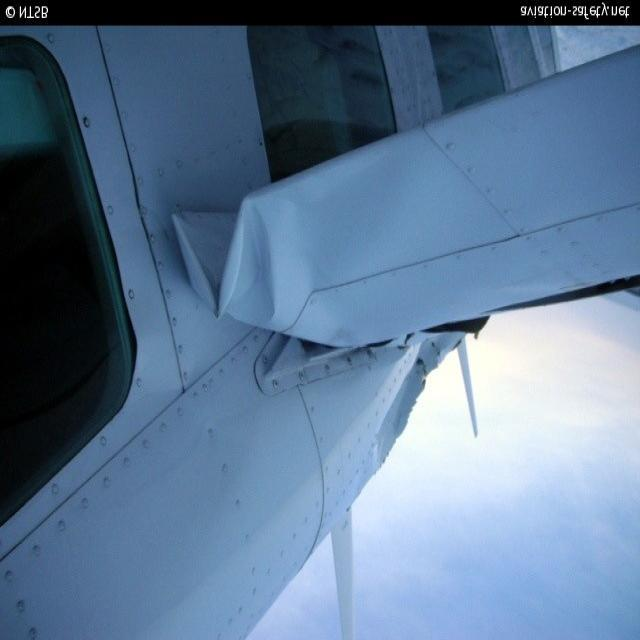dent: (172, 191, 282, 336)
